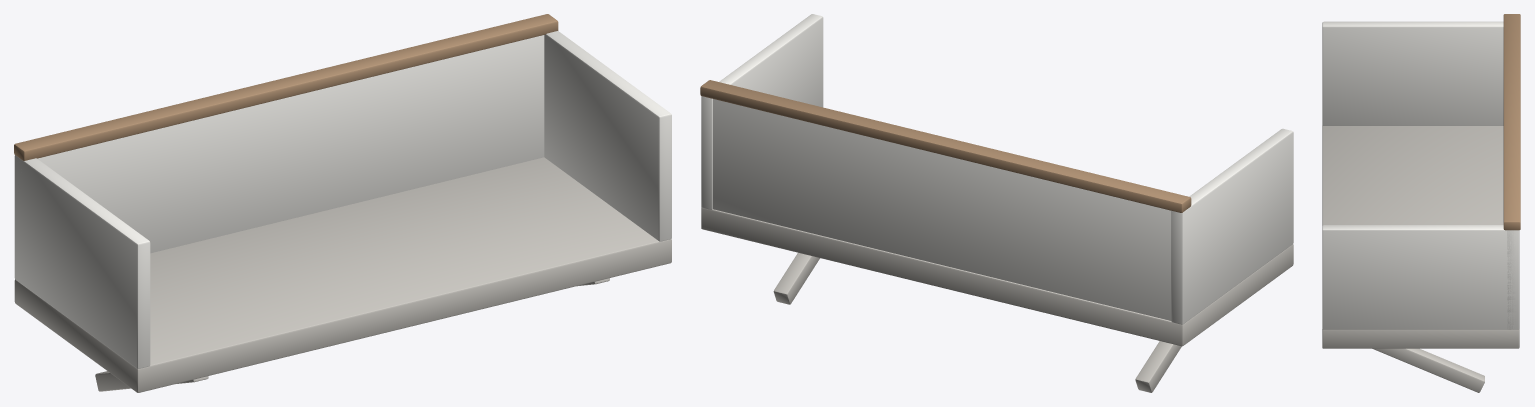
File: th34_balkon.glb
The picture shows the model from 3 angles, left to right: view 1: azimuth 30°, elevation 25°; view 2: azimuth 150°, elevation 25°; view 3: azimuth 270°, elevation 25°; orthographic projection. The views are drawn at different scales.
Visible parts, largest first — view 1: Cube, Cube.001, Cube.002, Cube.003, Cube.015, Cube.016; view 2: Cube.001, Cube.002, Cube, Cube.015, Cube.003, Cube.016, Cube.017; view 3: Cube, Cube.003, Cube.002, Cube.015, Cube.017, Cube.001.
Part boxes in pixels (x1,y1,x2,y2): Cube: [14, 157, 671, 392]; Cube.001: [15, 35, 544, 253]; Cube.002: [14, 155, 150, 368]; Cube.003: [544, 31, 671, 241]; Cube.015: [14, 14, 558, 160]; Cube.016: [95, 371, 208, 391]; Cube.001: [713, 99, 1171, 320]; Cube.002: [1171, 128, 1293, 324]; Cube: [701, 207, 1293, 346]; Cube.015: [700, 80, 1191, 212]; Cube.003: [701, 14, 823, 209]; Cube.016: [1135, 341, 1181, 392]; Cube.017: [773, 252, 819, 304]; Cube: [1322, 126, 1519, 348]; Cube.003: [1322, 225, 1519, 329]; Cube.002: [1322, 21, 1503, 125]; Cube.015: [1503, 14, 1520, 230]; Cube.017: [1372, 348, 1484, 392]; Cube.001: [1507, 230, 1516, 329].
Size of the model in its own units: 4 by 1.74 by 1.61.
